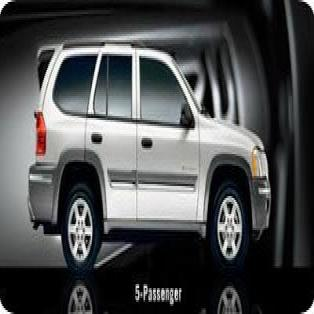Auto: (24, 32, 274, 284)
